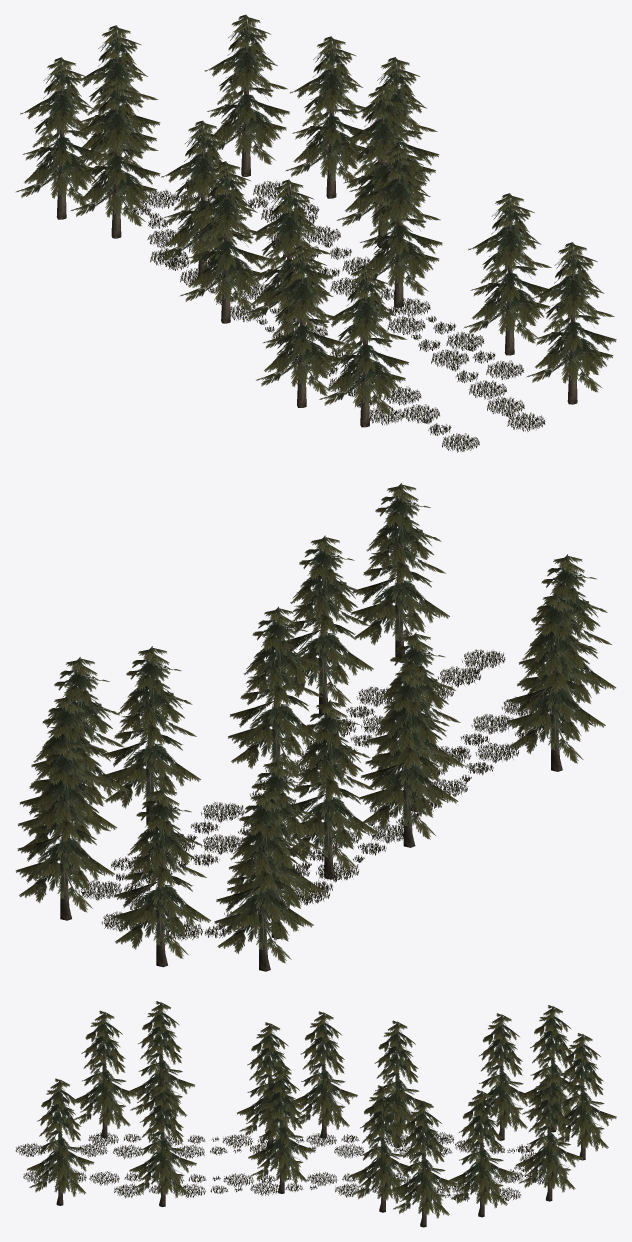
The model's file is forest-scene.glb.
3 renders of one model, top to bottom at view 1: azimuth 30°, elevation 25°; view 2: azimuth 150°, elevation 25°; view 3: azimuth 270°, elevation 25°, orthographic. The views are drawn at different scales.
Visible parts, largest first — view 1: Branches_Branches_lp_0.007, Branches_Branches_lp_0.006, Branches_Branches_lp_0.009, Branches_Branches_lp_0.005, Branches_Branches_lp_0.001, Branches_Branches_lp_0.008, Branches_Branches_lp_0.011, Branches_Branches_lp_0.003, Branches_Branches_lp_0.014, Branches_Branches_lp_0.012, Branches_Branches_lp_0.002, Branches (+3 smaller); view 2: Branches_Branches_lp_0.011, Branches_Branches_lp_0.014, Branches_Branches_lp_0.001, Branches_Branches_lp_0.010, Branches_Branches_lp_0.008, Branches_Branches_lp_0.003, Branches_Branches_lp_0.006, Branches_Branches_lp_0.004, Branches, Branches_Branches_lp_0.005, Branches_Branches_lp_0.012, Branches_Branches_lp_0.007 (+3 smaller); view 3: Branches_Branches_lp_0.013, Branches_Branches_lp_0.006, Branches_Branches_lp_0.005, Branches_Branches_lp_0.012, Branches_Branches_lp_0.003, Branches_Branches_lp_0.007, Branches_Branches_lp_0.011, Branches_Branches_lp_0.001, Branches_Branches_lp_0.004, Branches_Branches_lp_0.010, Branches_Branches_lp_0.009, Branches_Branches_lp_0.008 (+3 smaller).
Boxes of the visible parts, bbox=[...] form: Branches_Branches_lp_0.007: bbox=[319, 265, 408, 414]; Branches_Branches_lp_0.006: bbox=[526, 242, 616, 392]; Branches_Branches_lp_0.009: bbox=[70, 76, 160, 226]; Branches_Branches_lp_0.005: bbox=[463, 193, 552, 343]; Branches_Branches_lp_0.001: bbox=[179, 161, 269, 311]; Branches_Branches_lp_0.008: bbox=[256, 245, 345, 395]; Branches_Branches_lp_0.011: bbox=[204, 14, 289, 164]; Branches_Branches_lp_0.003: bbox=[352, 145, 442, 295]; Branches_Branches_lp_0.014: bbox=[15, 57, 103, 205]; Branches_Branches_lp_0.012: bbox=[285, 36, 371, 186]; Branches_Branches_lp_0.002: bbox=[242, 179, 332, 329]; Branches: bbox=[156, 120, 246, 265]; Branches_Branches_lp_0.011: bbox=[15, 740, 114, 912]; Branches_Branches_lp_0.014: bbox=[214, 791, 313, 963]; Branches_Branches_lp_0.001: bbox=[359, 668, 458, 839]; Branches_Branches_lp_0.010: bbox=[112, 787, 210, 958]; Branches_Branches_lp_0.008: bbox=[506, 592, 605, 763]; Branches_Branches_lp_0.003: bbox=[228, 606, 322, 778]; Branches_Branches_lp_0.006: bbox=[351, 483, 449, 650]; Branches_Branches_lp_0.004: bbox=[104, 646, 200, 809]; Branches: bbox=[284, 699, 378, 871]; Branches_Branches_lp_0.005: bbox=[282, 535, 373, 706]; Branches_Branches_lp_0.012: bbox=[18, 694, 116, 862]; Branches_Branches_lp_0.007: bbox=[517, 554, 616, 725]; Branches_Branches_lp_0.013: bbox=[390, 1100, 457, 1218]; Branches_Branches_lp_0.006: bbox=[26, 1078, 94, 1196]; Branches_Branches_lp_0.005: bbox=[129, 1079, 196, 1197]; Branches_Branches_lp_0.012: bbox=[448, 1089, 515, 1208]; Branches_Branches_lp_0.003: bbox=[248, 1066, 315, 1184]; Branches_Branches_lp_0.007: bbox=[71, 1010, 138, 1128]; Branches_Branches_lp_0.011: bbox=[516, 1074, 583, 1192]; Branches_Branches_lp_0.001: bbox=[293, 1011, 357, 1129]; Branches_Branches_lp_0.004: bbox=[349, 1085, 416, 1203]; Branches_Branches_lp_0.010: bbox=[551, 1033, 616, 1151]; Branches_Branches_lp_0.009: bbox=[468, 1013, 534, 1131]; Branches_Branches_lp_0.008: bbox=[129, 1001, 195, 1118].
Bounding box in the file's own units: 71.4 × 31.52 × 137.
64 materials, 64 textured.
